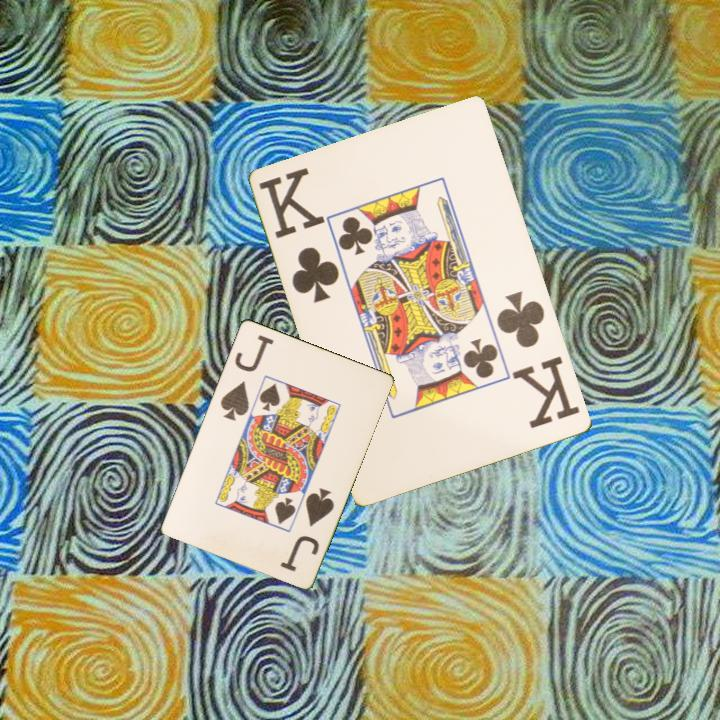Js: (217, 331, 277, 424), (276, 483, 337, 574)
Kc: (493, 288, 584, 432), (256, 165, 343, 307)
